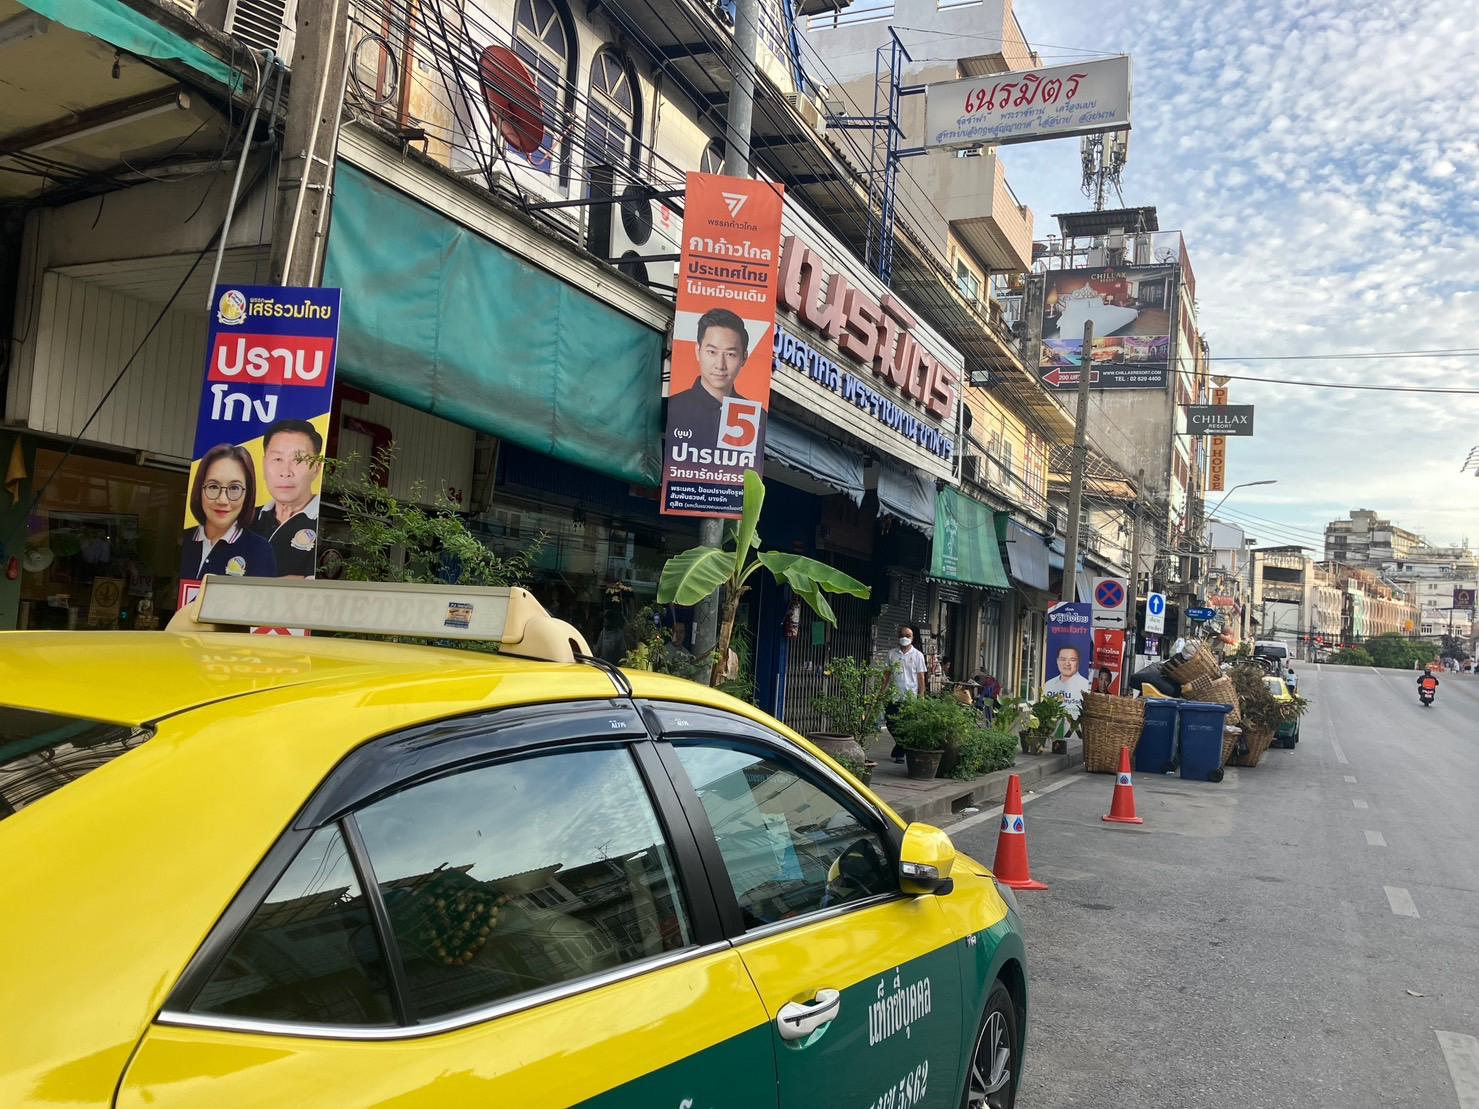Banner: (177, 257, 338, 591), (658, 167, 773, 515)
